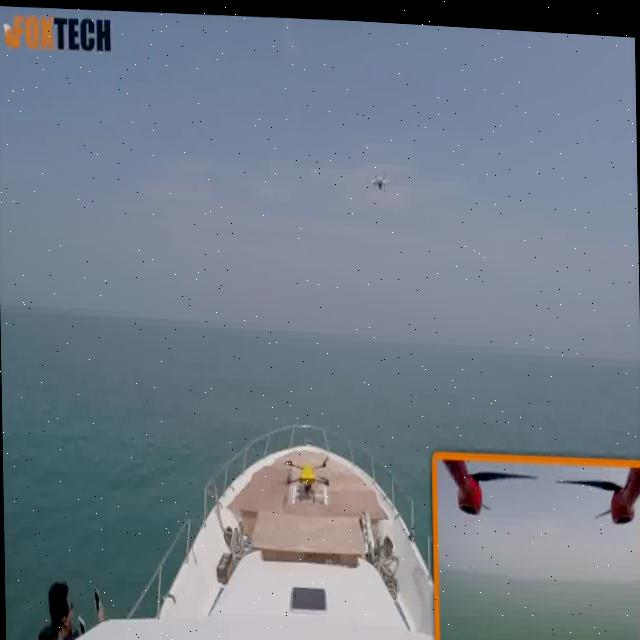drone: (273, 427, 339, 513), (360, 155, 392, 207)
